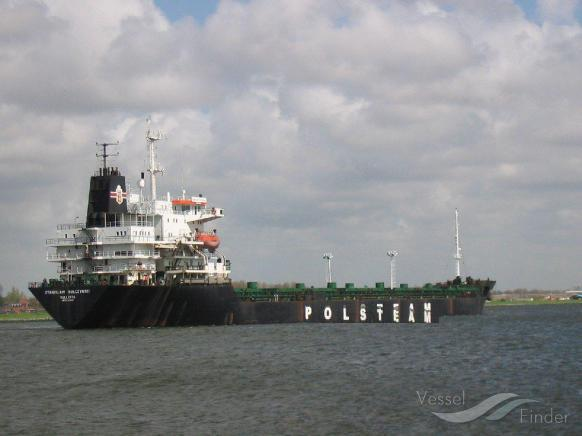OCR: (298, 301, 439, 323)
